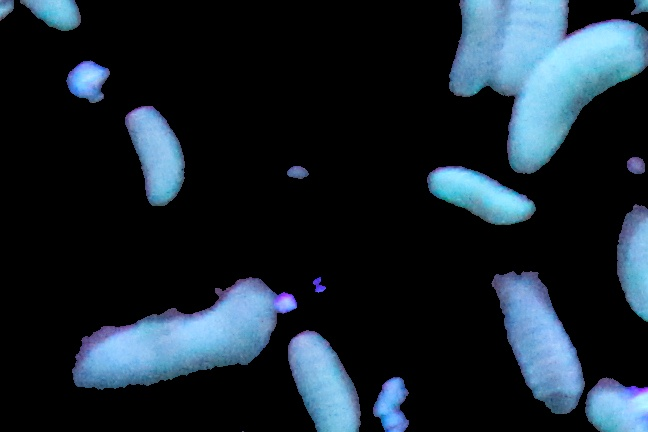larvae: (71, 272, 281, 393), (507, 19, 648, 173), (486, 270, 586, 414), (289, 331, 363, 432), (494, 1, 568, 93), (121, 106, 187, 206), (429, 167, 535, 227), (445, 1, 499, 95)
